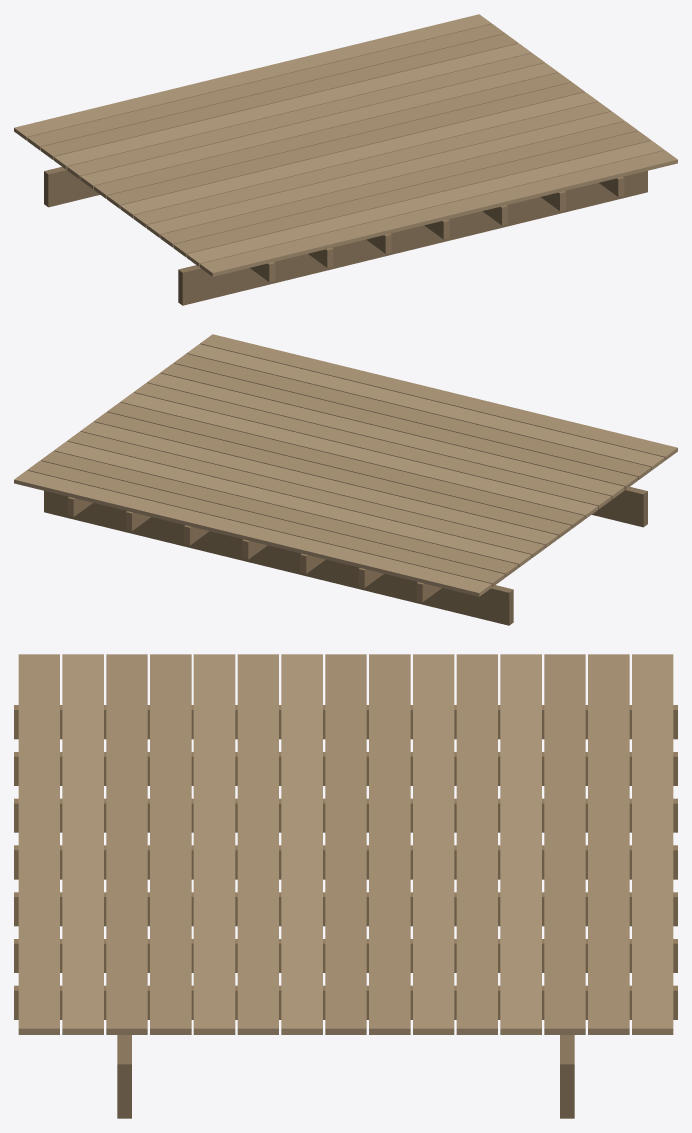
File: hp-floor-boards.glb
3 renders of one model, top to bottom at view 1: azimuth 30°, elevation 25°; view 2: azimuth 150°, elevation 25°; view 3: azimuth 270°, elevation 25°, orthographic. The views are drawn at different scales.
Visible parts, largest first — view 1: Sleeper_01, Board_01, Board_12, Board_05, Board_07, Board_14, Board_02, Board_03, Board_04, Board_06, Board_08, Board_09 (+5 smaller); view 2: Sleeper_02, Board_15, Board_04, Board_02, Board_09, Board_11, Board_01, Board_03, Board_06, Board_07, Board_08, Board_10 (+5 smaller); view 3: Board_05, Board_01, Board_02, Board_03, Board_04, Board_06, Board_07, Board_08, Board_09, Board_10, Board_11, Board_12 (+12 smaller).
Boxes of the visible parts, x1,y1,x2,y2 form: Sleeper_01: [178, 171, 647, 305]; Board_01: [200, 150, 677, 276]; Board_12: [54, 43, 531, 169]; Board_05: [147, 111, 624, 237]; Board_07: [120, 92, 598, 218]; Board_14: [27, 24, 505, 150]; Board_02: [186, 141, 664, 266]; Board_03: [173, 131, 651, 257]; Board_04: [160, 121, 637, 247]; Board_06: [133, 102, 611, 228]; Board_08: [107, 82, 584, 208]; Board_09: [93, 72, 571, 198]; Sleeper_02: [44, 491, 513, 625]; Board_15: [14, 470, 491, 596]; Board_04: [160, 363, 637, 489]; Board_02: [186, 344, 664, 470]; Board_09: [93, 412, 571, 538]; Board_11: [67, 431, 544, 557]; Board_01: [200, 334, 677, 460]; Board_03: [173, 353, 651, 479]; Board_06: [133, 383, 611, 509]; Board_07: [120, 392, 598, 518]; Board_08: [107, 402, 584, 528]; Board_10: [80, 422, 558, 548]; Board_05: [193, 654, 235, 1034]; Board_01: [18, 654, 59, 1034]; Board_02: [62, 654, 103, 1034]; Board_03: [106, 654, 147, 1034]; Board_04: [150, 654, 191, 1034]; Board_06: [237, 654, 278, 1034]; Board_07: [281, 654, 322, 1034]; Board_08: [325, 654, 366, 1034]; Board_09: [369, 654, 410, 1034]; Board_10: [413, 654, 454, 1034]; Board_11: [456, 654, 497, 1034]; Board_12: [500, 654, 541, 1034].
Size of the model in its own units: 4.88 by 0.5461 by 3.66.
